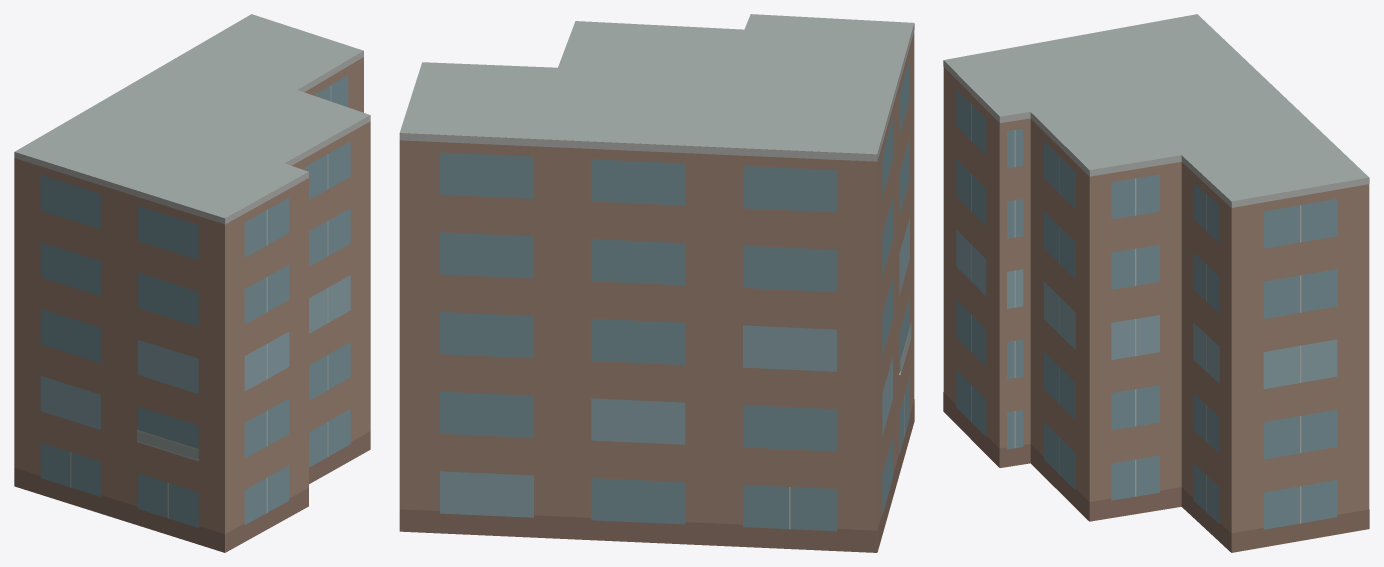
The model's file is survey-upis-32852049.glb.
3 views of the same model, side by side, from view 1: azimuth 30°, elevation 25°; view 2: azimuth 150°, elevation 25°; view 3: azimuth 270°, elevation 25° (orthographic). The views are drawn at different scales.
Visible parts, largest first — view 1: survey-upis-32852049.tmp; view 2: survey-upis-32852049.tmp; view 3: survey-upis-32852049.tmp.
Part boxes in pixels (box(x1,y1,x2,y2)): survey-upis-32852049.tmp: box(14, 14, 370, 552); survey-upis-32852049.tmp: box(399, 14, 914, 552); survey-upis-32852049.tmp: box(943, 14, 1369, 552).
Size of the model in its own units: 15.17 by 13.25 by 14.57.
